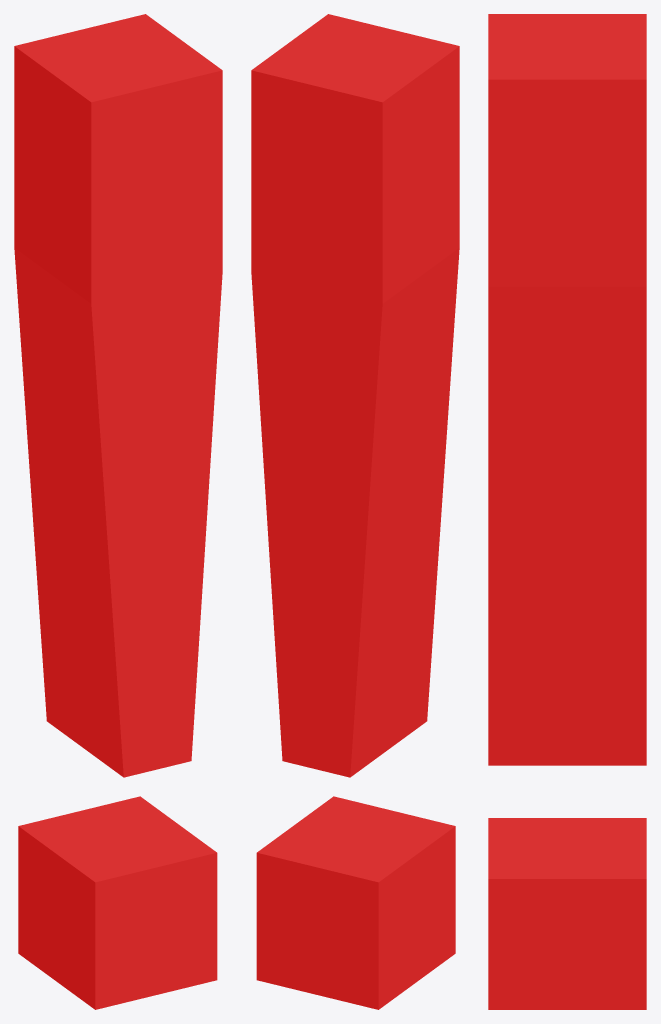
Rendered from ExclaimationMark.FBX.
3 renders of one model, left to right at view 1: azimuth 30°, elevation 25°; view 2: azimuth 150°, elevation 25°; view 3: azimuth 270°, elevation 25°, orthographic. The views are drawn at different scales.
Visible parts, largest first — view 1: Exclaimation Mark; view 2: Exclaimation Mark; view 3: Exclaimation Mark.
Part boxes in pixels (box(x1,y1,x2,y2)): Exclaimation Mark: box(14, 14, 222, 1009); Exclaimation Mark: box(251, 14, 459, 1009); Exclaimation Mark: box(488, 14, 646, 1009).
Bounding box in the file's own units: 9.7 × 64.1 × 9.84.
